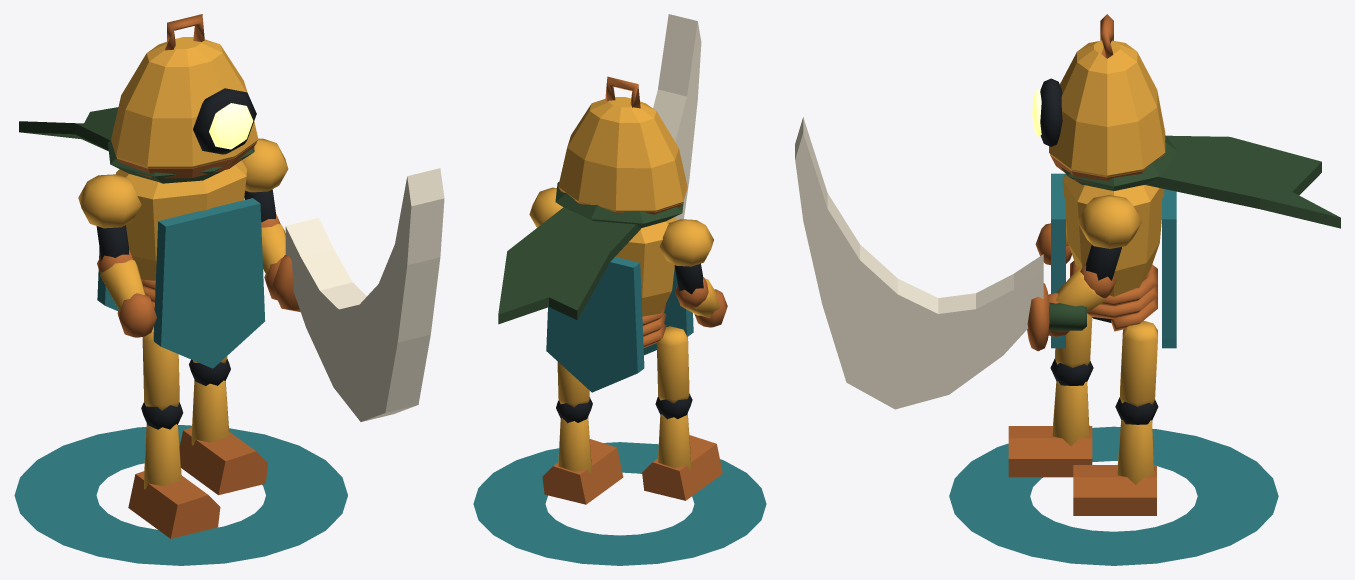
The model's file is coilblade.glb.
3 views of the same model, side by side, from view 1: azimuth 30°, elevation 25°; view 2: azimuth 150°, elevation 25°; view 3: azimuth 270°, elevation 25° (orthographic). The views are drawn at different scales.
Visible parts, largest first — view 1: ME_CM_R1_coilblade_river_ground_mark, ME_CM_R1_coilblade_sunrise_crescent, ME_CM_R1_coilblade_broad_team_tabard_front, ME_CM_R1_coilblade_flared_kiln_bell, ME_CM_R1_coilblade_copper_chest, ME_CM_R1_coilblade_left_splayed_sabaton, ME_CM_R1_coilblade_right_splayed_sabaton, ME_CM_R1_coilblade_left_shoulder, ME_CM_R1_coilblade_left_thigh, ME_CM_R1_coilblade_left_shin, ME_CM_R1_coilblade_right_shin, ME_CM_R1_coilblade_broad_trailing_scarf (+14 smaller); view 2: ME_CM_R1_coilblade_river_ground_mark, ME_CM_R1_coilblade_flared_kiln_bell, ME_CM_R1_coilblade_broad_trailing_scarf, ME_CM_R1_coilblade_broad_team_tabard_back, ME_CM_R1_coilblade_sunrise_crescent, ME_CM_R1_coilblade_copper_chest, ME_CM_R1_coilblade_left_splayed_sabaton, ME_CM_R1_coilblade_right_splayed_sabaton, ME_CM_R1_coilblade_left_thigh, ME_CM_R1_coilblade_left_shoulder, ME_CM_R1_coilblade_moss_scarf_collar, ME_CM_R1_coilblade_right_shin (+12 smaller); view 3: ME_CM_R1_coilblade_sunrise_crescent, ME_CM_R1_coilblade_river_ground_mark, ME_CM_R1_coilblade_flared_kiln_bell, ME_CM_R1_coilblade_broad_trailing_scarf, ME_CM_R1_coilblade_copper_chest, ME_CM_R1_coilblade_right_splayed_sabaton, ME_CM_R1_coilblade_left_splayed_sabaton, ME_CM_R1_coilblade_right_thigh, ME_CM_R1_coilblade_right_shoulder, ME_CM_R1_coilblade_broad_team_tabard_back, ME_CM_R1_coilblade_three_turn_spring, ME_CM_R1_coilblade_left_shin (+11 smaller).
Part boxes in pixels (bbox=[...]): ME_CM_R1_coilblade_river_ground_mark: bbox=[14, 425, 347, 565]; ME_CM_R1_coilblade_sunrise_crescent: bbox=[285, 168, 444, 421]; ME_CM_R1_coilblade_broad_team_tabard_front: bbox=[153, 198, 265, 368]; ME_CM_R1_coilblade_flared_kiln_bell: bbox=[111, 37, 258, 168]; ME_CM_R1_coilblade_copper_chest: bbox=[116, 160, 246, 280]; ME_CM_R1_coilblade_left_splayed_sabaton: bbox=[128, 471, 220, 538]; ME_CM_R1_coilblade_right_splayed_sabaton: bbox=[179, 427, 267, 495]; ME_CM_R1_coilblade_left_shoulder: bbox=[78, 174, 141, 228]; ME_CM_R1_coilblade_left_thigh: bbox=[142, 326, 179, 410]; ME_CM_R1_coilblade_left_shin: bbox=[144, 423, 181, 489]; ME_CM_R1_coilblade_right_shin: bbox=[191, 379, 229, 445]; ME_CM_R1_coilblade_broad_trailing_scarf: bbox=[19, 107, 118, 151]; ME_CM_R1_coilblade_river_ground_mark: bbox=[473, 442, 766, 565]; ME_CM_R1_coilblade_flared_kiln_bell: bbox=[558, 97, 687, 212]; ME_CM_R1_coilblade_broad_trailing_scarf: bbox=[498, 207, 640, 324]; ME_CM_R1_coilblade_broad_team_tabard_back: bbox=[546, 257, 644, 392]; ME_CM_R1_coilblade_sunrise_crescent: bbox=[653, 14, 701, 220]; ME_CM_R1_coilblade_copper_chest: bbox=[615, 217, 676, 316]; ME_CM_R1_coilblade_left_splayed_sabaton: bbox=[642, 435, 722, 500]; ME_CM_R1_coilblade_right_splayed_sabaton: bbox=[542, 439, 623, 504]; ME_CM_R1_coilblade_left_thigh: bbox=[656, 326, 689, 403]; ME_CM_R1_coilblade_left_shoulder: bbox=[659, 219, 713, 266]; ME_CM_R1_coilblade_moss_scarf_collar: bbox=[555, 182, 683, 228]; ME_CM_R1_coilblade_right_shin: bbox=[558, 417, 591, 474]; ME_CM_R1_coilblade_sunrise_crescent: bbox=[795, 117, 1043, 409]; ME_CM_R1_coilblade_river_ground_mark: bbox=[949, 426, 1278, 565]; ME_CM_R1_coilblade_flared_kiln_bell: bbox=[1049, 40, 1165, 176]; ME_CM_R1_coilblade_broad_trailing_scarf: bbox=[1146, 135, 1340, 228]; ME_CM_R1_coilblade_copper_chest: bbox=[1062, 174, 1164, 296]; ME_CM_R1_coilblade_right_splayed_sabaton: bbox=[1073, 465, 1156, 515]; ME_CM_R1_coilblade_left_splayed_sabaton: bbox=[1008, 426, 1092, 477]; ME_CM_R1_coilblade_right_thigh: bbox=[1120, 320, 1157, 406]; ME_CM_R1_coilblade_right_shoulder: bbox=[1077, 195, 1141, 248]; ME_CM_R1_coilblade_broad_team_tabard_back: bbox=[1162, 189, 1176, 348]; ME_CM_R1_coilblade_three_turn_spring: bbox=[1070, 261, 1157, 331]; ME_CM_R1_coilblade_left_shin: bbox=[1052, 381, 1089, 445].
Size of the model in its own units: 1.22 by 1.94 by 2.02.
